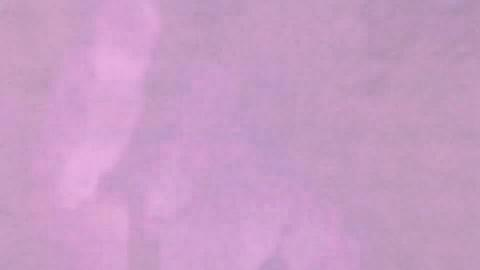tomato: (148, 65, 390, 268)
